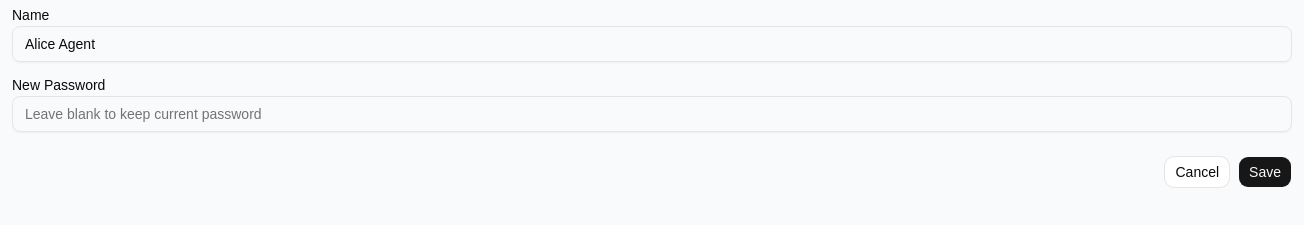
Test case: EditUserForm › validation › shows a validation error when password is too short
The image size is (1304, 225).
Step 1. Type "abc" into the password field labelled "New Password" → (652, 114), box 12,96 -> 1292,132
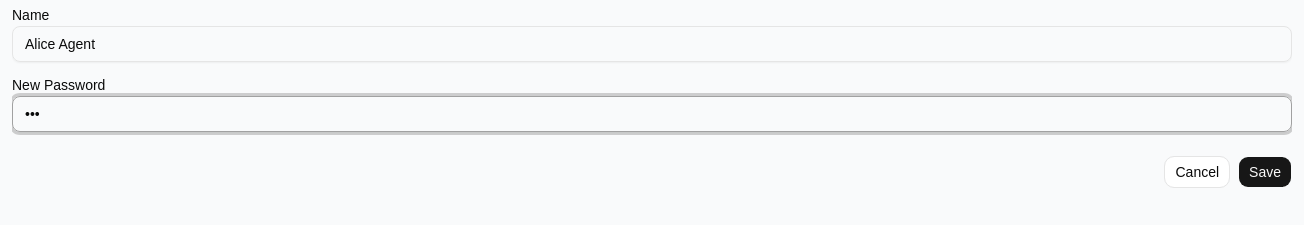
Step 2. Click the button "Save" → (1265, 172), box 1238,156 -> 1292,188
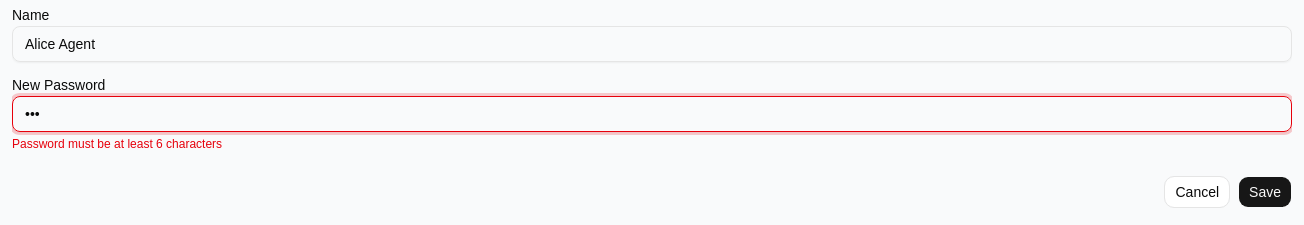
Expected: the text "Password must be at least 6 characters" is shown, 12,137 -> 222,151
